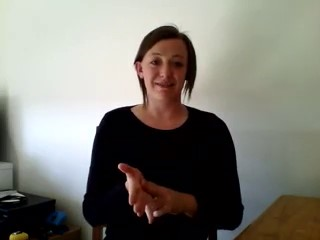N: (114, 156, 193, 230)
